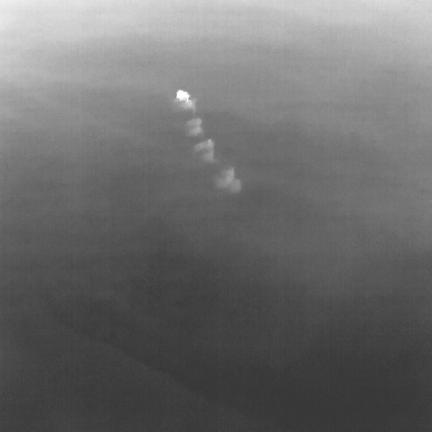flukeprints: (215, 167, 241, 192), (194, 139, 214, 162), (176, 89, 194, 109), (186, 117, 203, 137)
